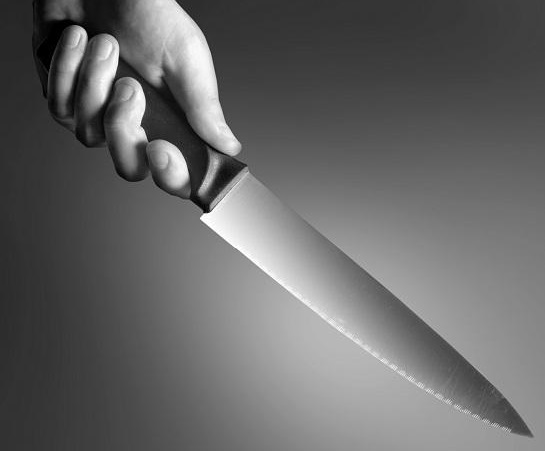knife: (38, 17, 542, 446)
